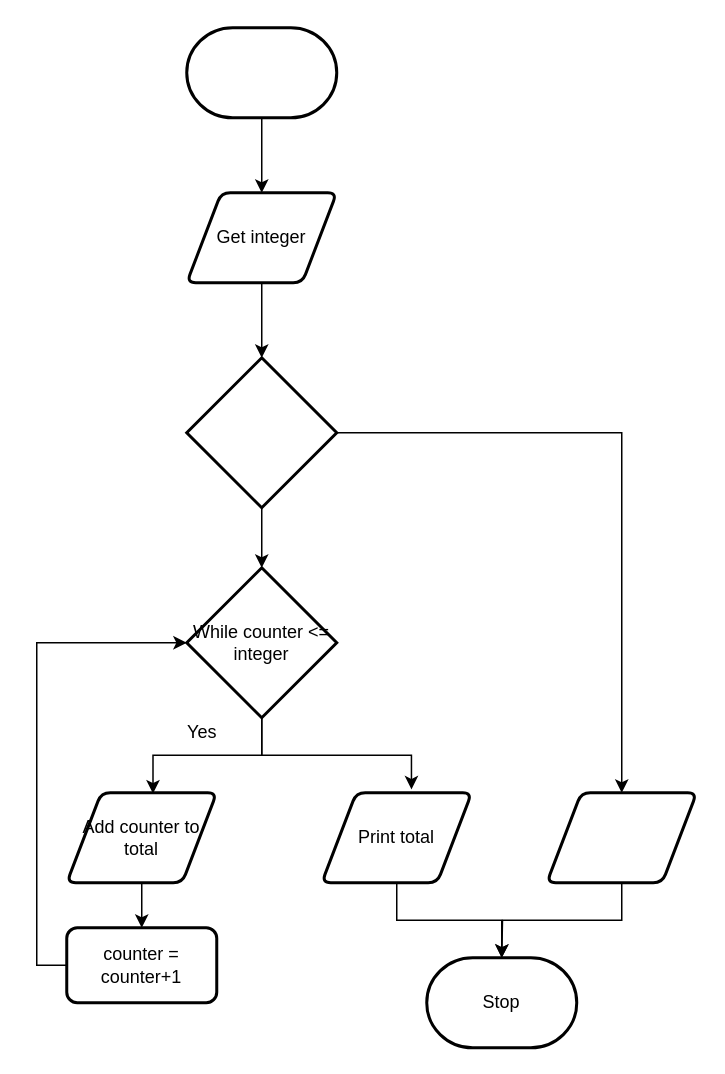
The diagram is 725 pixels wide and 1074 high, and some of its shapes have lost their labels. Here are the shapes that lost their labels. From the top down, the centre of each, then its label:
(261,72): Start
(261,432): Try int(integer>0)
(621,837): Print ("{0} is an invalid input.")
